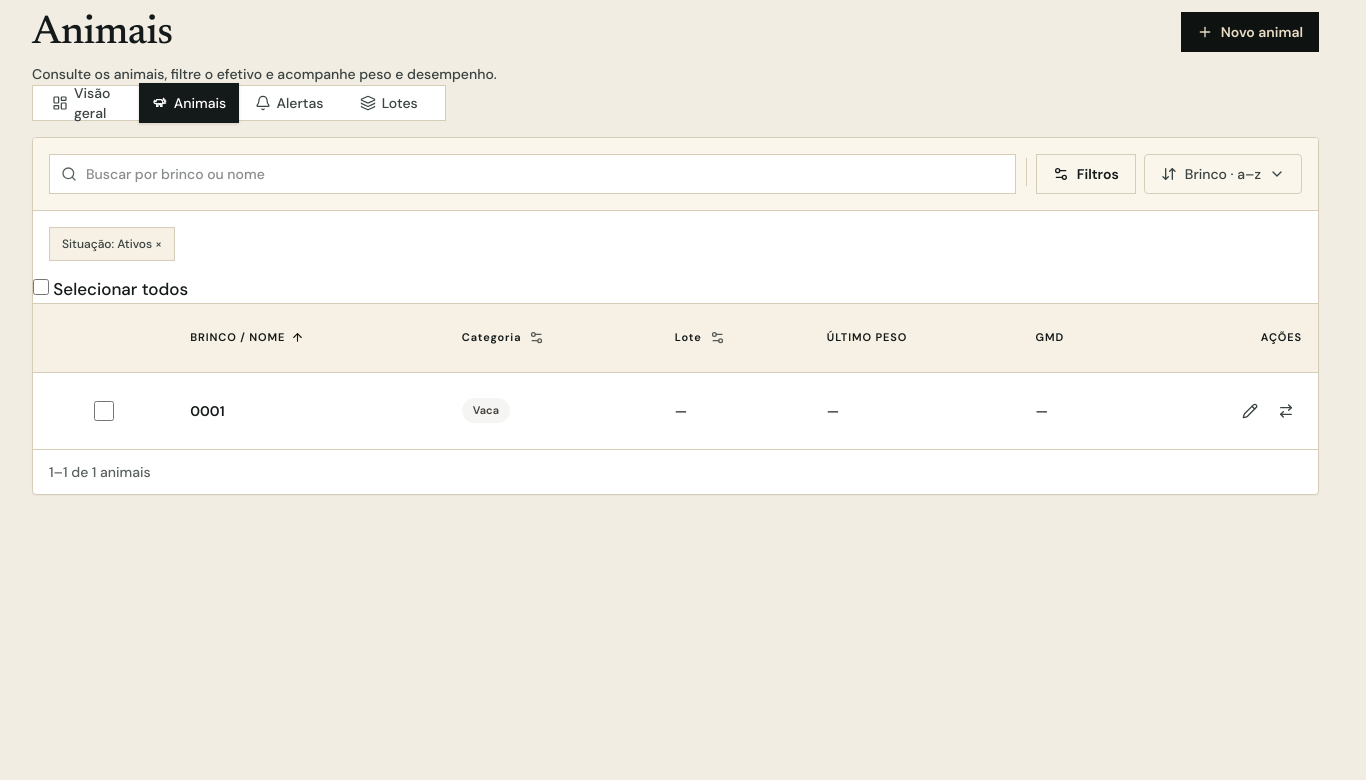
Test case: ListaAnimais › selecionar todos fica na barra de filtros e só mostra ações coletivas após seleção
Expected: the element named "Selecionar todos os animais desta página" is shown, [33,138,1318,302]
Click the checkbox named "Selecionar todos os animais desta página" at [41, 287], box [33,279,49,295]
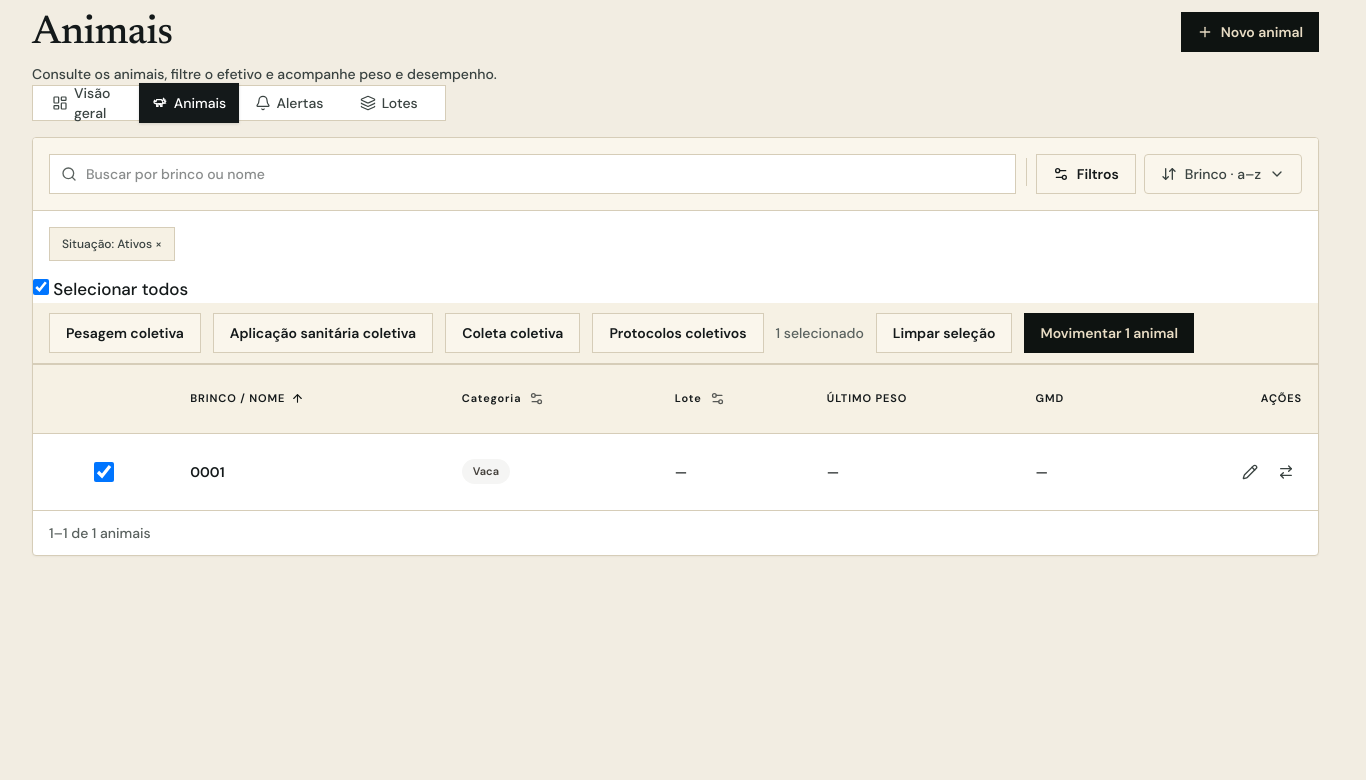
Result: the button "Pesagem coletiva" is shown at [49,312,201,352]
Result: the element with class "animais-acoes-coletivas" is shown at [33,302,1318,364]
